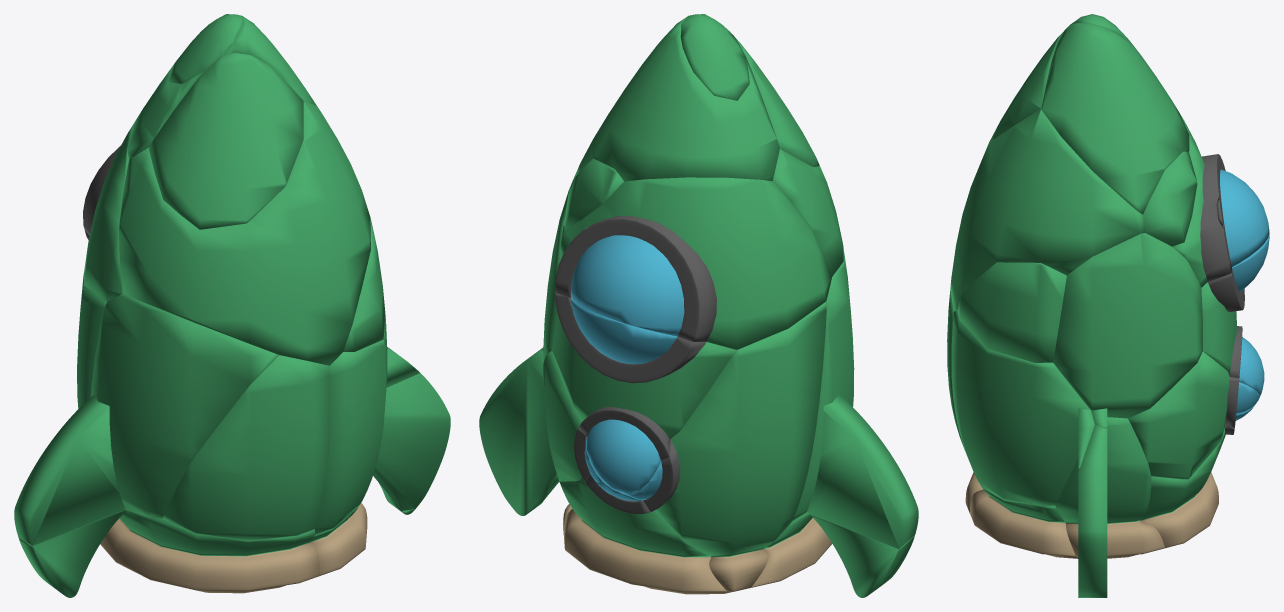
File: Ship Light Green Fractured.fbx
3 views of the same model, side by side, from view 1: azimuth 30°, elevation 25°; view 2: azimuth 150°, elevation 25°; view 3: azimuth 270°, elevation 25° (orthographic). The views are drawn at different scales.
Parts seen in each view (by area): view 1: Body_shard, Body_shard.006, Body_shard.015, Body_shard.010, Body_shard.013, Body_shard.005, Body_shard.011, Body_shard.009, Body_shard.001, Body_shard.017, Body_shard.008, Body_shard.003 (+1 smaller); view 2: Body_shard.009, Body_shard.014, Body_shard.016, Body_shard.001, Body_shard.006, Body_shard.004, Body_shard.011, Body_shard.013, Body_shard.008, Body_shard, Body_shard.002, Body_shard.012 (+2 smaller); view 3: Body_shard.007, Body_shard, Body_shard.005, Body_shard.001, Body_shard.011, Body_shard.002, Body_shard.017, Body_shard.009, Body_shard.016, Body_shard.004, Body_shard.003, Body_shard.012 (+2 smaller).
Boxes of the visible parts, x1,y1,x2,y2 form: Body_shard: (119,101,370,365); Body_shard.006: (14,294,278,545); Body_shard.015: (163,355,330,540); Body_shard.010: (149,52,303,229); Body_shard.013: (19,510,319,597); Body_shard.005: (315,318,419,535); Body_shard.011: (373,347,450,512); Body_shard.009: (83,125,132,301); Body_shard.001: (127,16,316,159); Body_shard.017: (343,217,385,351); Body_shard.008: (168,14,243,83); Body_shard.003: (311,503,414,575); Body_shard.009: (555,177,831,349); Body_shard.014: (630,301,826,591); Body_shard.016: (552,292,735,495); Body_shard.001: (576,14,779,181); Body_shard.006: (792,247,918,548); Body_shard.004: (559,475,727,594); Body_shard.011: (479,348,572,534); Body_shard.013: (728,512,914,597); Body_shard.008: (680,14,749,100); Body_shard: (569,149,843,276); Body_shard.002: (543,351,601,482); Body_shard.012: (564,158,623,247); Body_shard.007: (1053,233,1202,428); Body_shard: (950,109,1145,311); Body_shard.005: (951,311,1094,506); Body_shard.001: (1041,22,1189,214); Body_shard.011: (1055,417,1164,597); Body_shard.002: (1128,351,1259,479); Body_shard.017: (957,262,1066,362); Body_shard.009: (1172,114,1269,287); Body_shard.016: (1201,233,1269,397); Body_shard.004: (1134,398,1259,555); Body_shard.003: (970,489,1078,597); Body_shard.012: (1143,151,1223,246).
Size of the model in its own units: 318 by 389 by 224.
